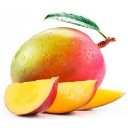mango: (10, 27, 110, 85)
